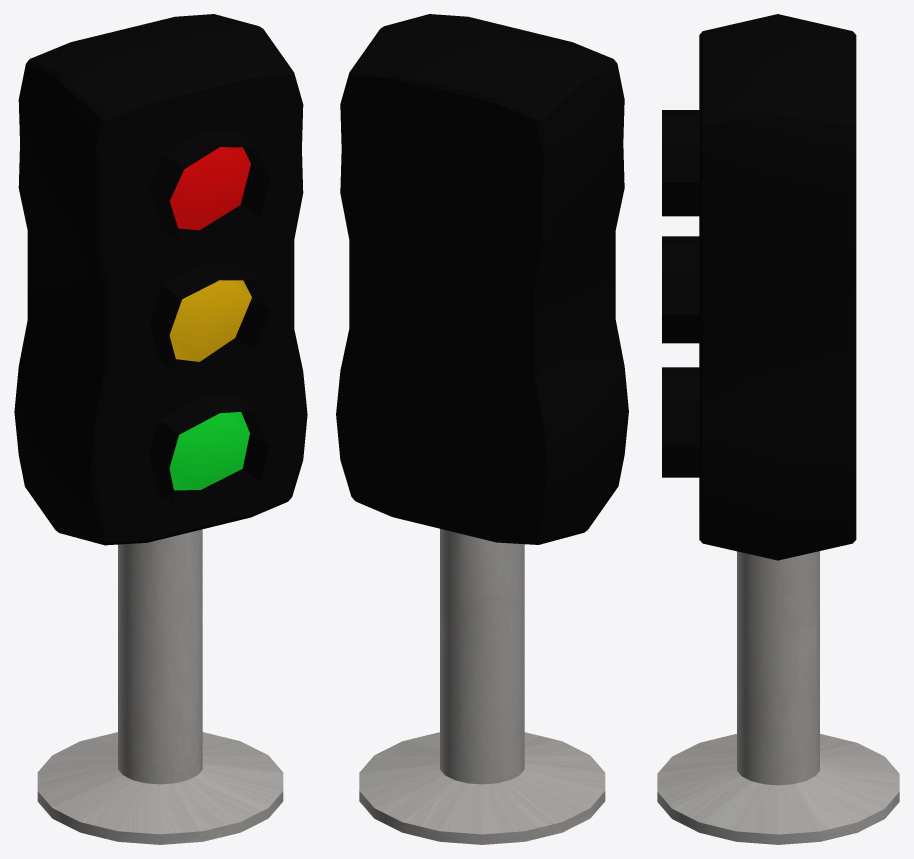
The model's file is Semaforo.FBX.
3 renders of one model, left to right at view 1: azimuth 30°, elevation 25°; view 2: azimuth 150°, elevation 25°; view 3: azimuth 270°, elevation 25°, orthographic.
Visible parts, largest first — view 1: Base, Palito, Luz roja, luz amarilla, Luz verde; view 2: Base, Palito; view 3: Base, Palito.
Part boxes in pixels (x1,y1,x2,y2): Base: [14, 14, 307, 545]; Palito: [37, 529, 283, 844]; Luz roja: [169, 147, 250, 230]; luz amarilla: [169, 280, 251, 361]; Luz verde: [169, 412, 249, 490]; Base: [336, 14, 628, 544]; Palito: [359, 529, 605, 844]; Base: [662, 14, 856, 560]; Palito: [657, 551, 899, 844].
Size of the model in its own units: 29.47 by 90.25 by 26.83.
5 materials, 5 textured.
